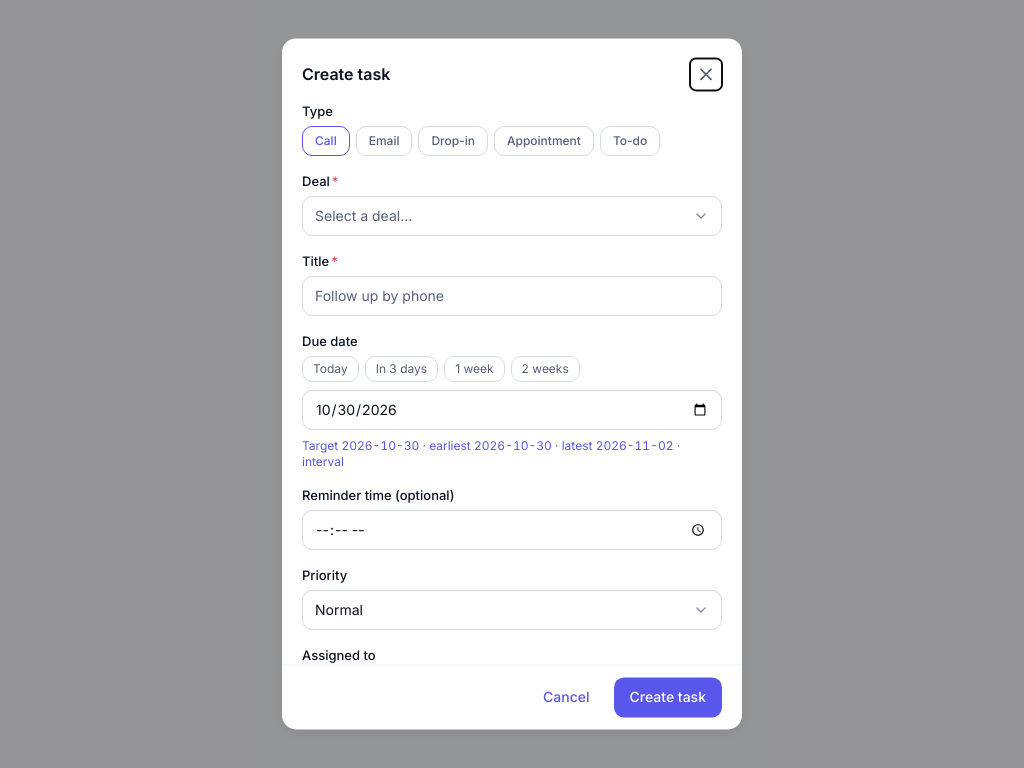
Test: CreateTaskSheet › in standalone mode, requires a deal for a non-todo task
In the field labelled "Title*": (512, 296) x1=315 y1=286 x2=709 y2=306, type "Follow up"
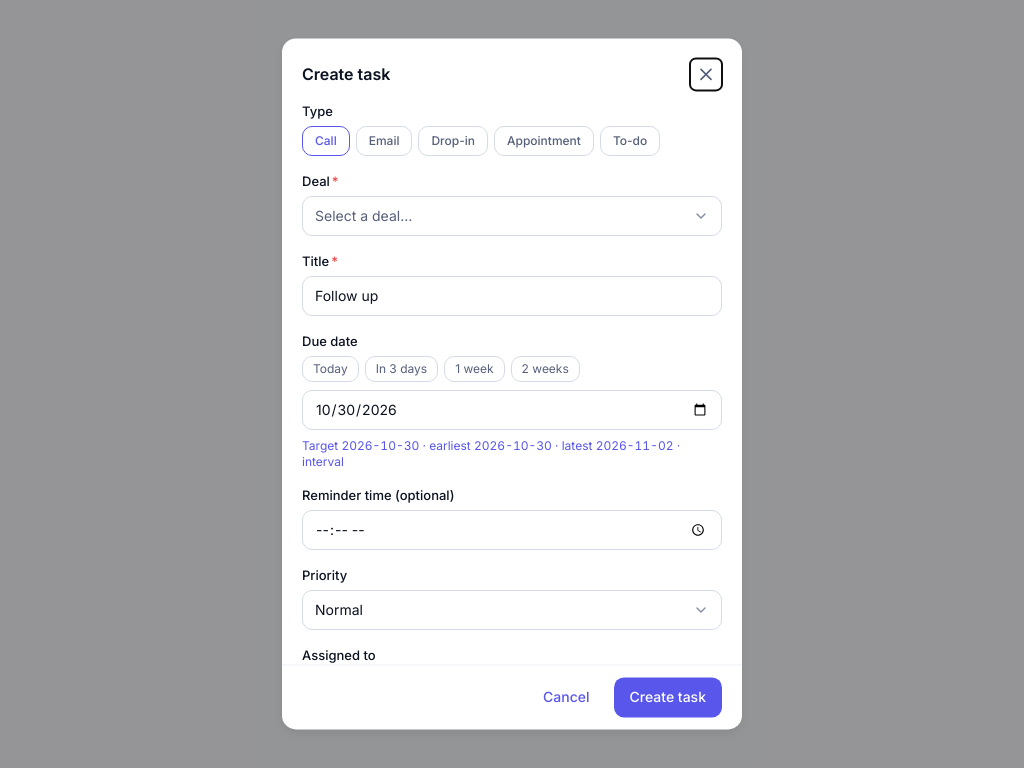
Click the button "Create task": (668, 698) x1=614 y1=678 x2=722 y2=718
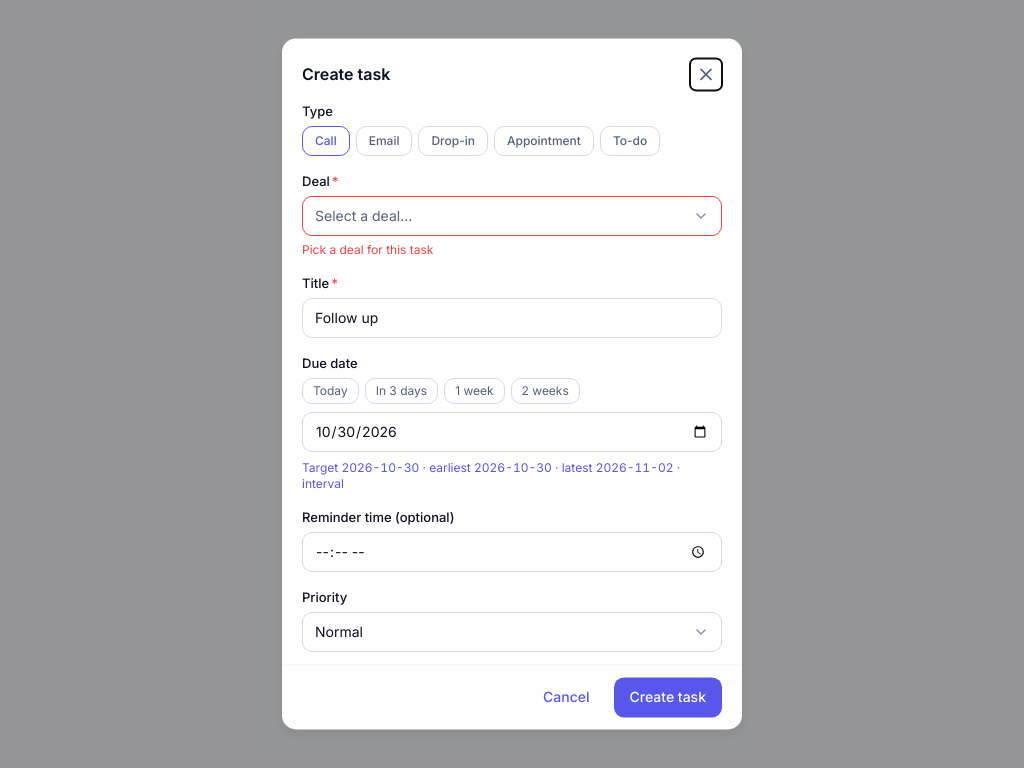
Expected: the text "Pick a deal for this task" is shown, x1=302 y1=242 x2=433 y2=257
